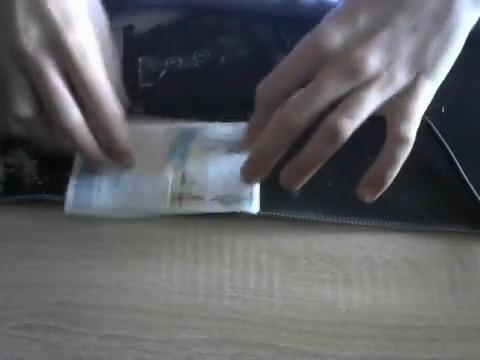20leva: (64, 122, 480, 237)
